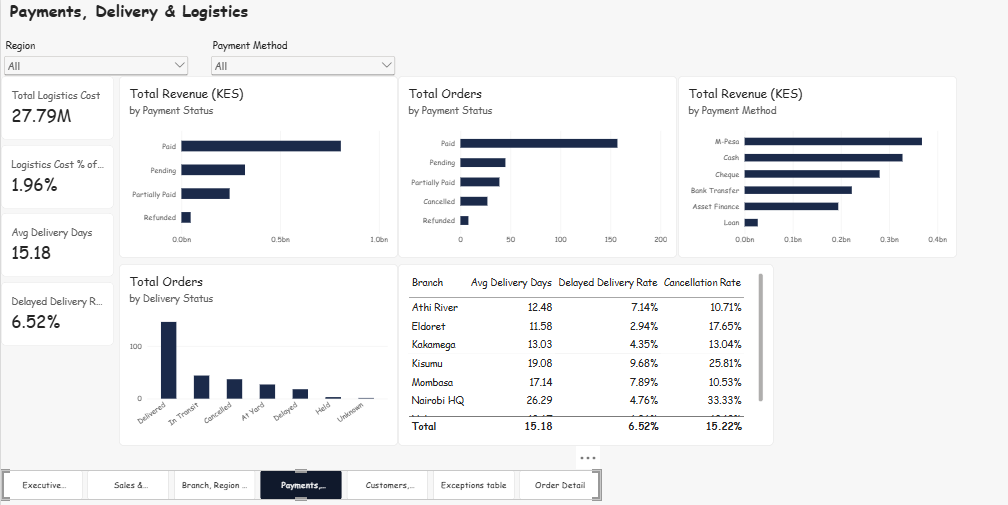

This screenshot's page, from the dashboard's own definition file:
{"tool":"powerbi","page":{"name":"Payments, Delivery & Logistics","canvas":[1920,1080],"ordinal":3},"visuals":[{"type":"textbox","box":[14.6,0,739.7,62.7],"z":0},{"type":"cardVisual","fields":{"Data":["_Measures.Total Logistics Cost"]},"box":[0,126.9,188.2,106.5],"z":0,"group":"g1"},{"type":"group","id":"g1","title":"Group 1","box":[0,126.9,188.2,449.4],"z":1000},{"type":"cardVisual","fields":{"Data":["_Measures.Logistics Cost % of Revenue"]},"box":[0,241.2,188.2,106.5],"z":1000,"group":"g1"},{"type":"clusteredBarChart","fields":{"Category":["Fact_Sales.Payment Status"],"Y":["_Measures.Total Revenue (KES)"]},"box":[197,126.9,465.4,303.5],"z":2000},{"type":"cardVisual","fields":{"Data":["_Measures.Avg Delivery Days"]},"box":[0,355.5,188.2,106.5],"z":2000,"group":"g1"},{"type":"clusteredBarChart","fields":{"Category":["Fact_Sales.Payment Status"],"Y":["_Measures.Total Orders"]},"box":[662.4,126.9,465.4,303.5],"z":3000},{"type":"cardVisual","fields":{"Data":["_Measures.Delayed Delivery Rate"]},"box":[0,469.8,188.2,106.5],"z":3000,"group":"g1"},{"type":"clusteredBarChart","fields":{"Category":["Fact_Sales.Payment Method"],"Y":["_Measures.Total Revenue (KES)"]},"box":[1127.8,126.9,465.4,303.5],"z":4000},{"type":"columnChart","fields":{"Category":["Fact_Sales.Delivery Status"],"Y":["_Measures.Total Orders"]},"box":[197,440.6,465.4,303.5],"z":5000},{"type":"tableEx","fields":{"Values":["Dim_Branch.Branch","_Measures.Avg Delivery Days","_Measures.Delayed Delivery Rate","_Measures.Cancellation Rate"]},"box":[662.4,440.6,625.9,303.5],"z":6000},{"type":"slicer","fields":{"Values":["Dim_Branch.Region"]},"box":[0,62.7,316.6,75.9],"z":7000},{"type":"slicer","fields":{"Values":["Fact_Sales.Payment Method"]},"box":[345.8,62.7,316.6,75.9],"z":8000},{"type":"pageNavigator","box":[0,846.2,1000,50],"z":9000}]}

Visuals, with their boxes on the page's 1920x1080 design canvas (x1, y1, x2, y2). These are canvas units, not pixel positions in the 1008x505 screenshot, which may show the page scaled, cropped or inside an application window:
textbox: (15,0,754,63)
cardVisual - _Measures.Total Logistics Cost: (0,127,188,233)
"Group 1" group: (0,127,188,576)
cardVisual - _Measures.Logistics Cost % of Revenue: (0,241,188,348)
clusteredBarChart - Fact_Sales.Payment Status x _Measures.Total Revenue (KES): (197,127,662,430)
cardVisual - _Measures.Avg Delivery Days: (0,356,188,462)
clusteredBarChart - Fact_Sales.Payment Status x _Measures.Total Orders: (662,127,1128,430)
cardVisual - _Measures.Delayed Delivery Rate: (0,470,188,576)
clusteredBarChart - Fact_Sales.Payment Method x _Measures.Total Revenue (KES): (1128,127,1593,430)
columnChart - Fact_Sales.Delivery Status x _Measures.Total Orders: (197,441,662,744)
tableEx - Dim_Branch.Branch x _Measures.Avg Delivery Days: (662,441,1288,744)
slicer - Dim_Branch.Region: (0,63,317,139)
slicer - Fact_Sales.Payment Method: (346,63,662,139)
pageNavigator: (0,846,1000,896)
